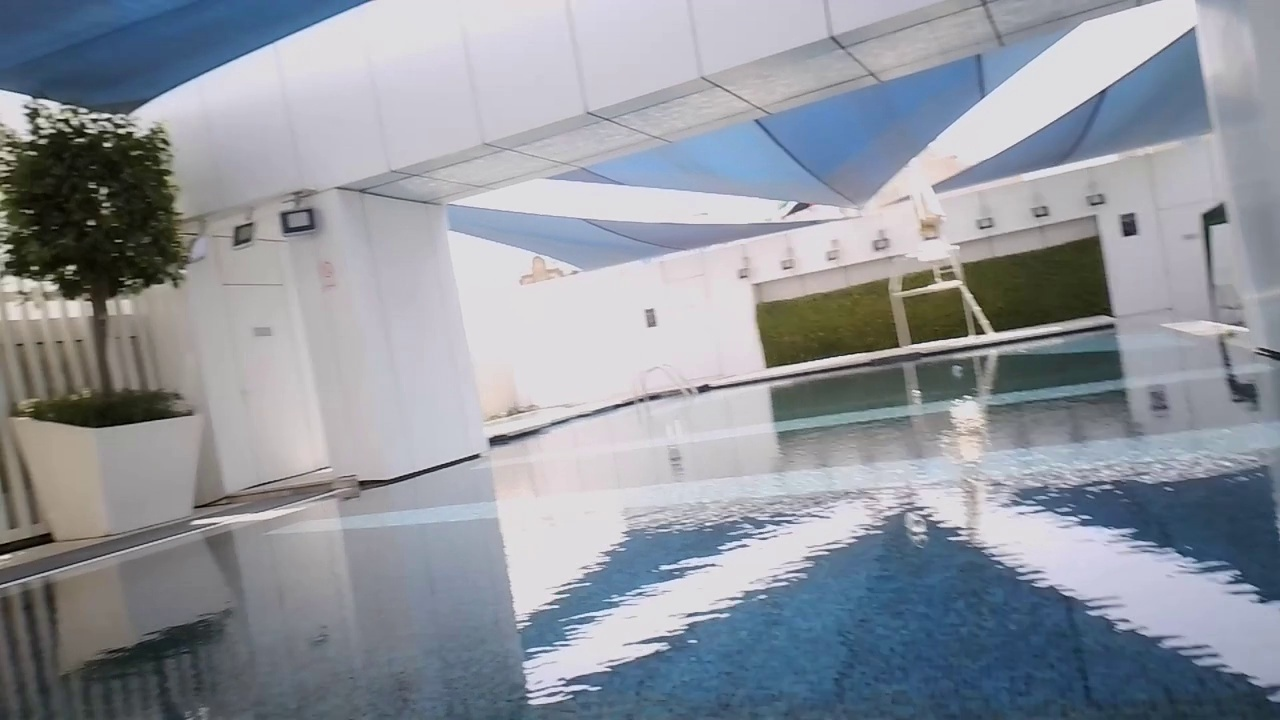debris: (901, 508, 930, 536), (950, 362, 966, 377), (909, 387, 924, 397)
